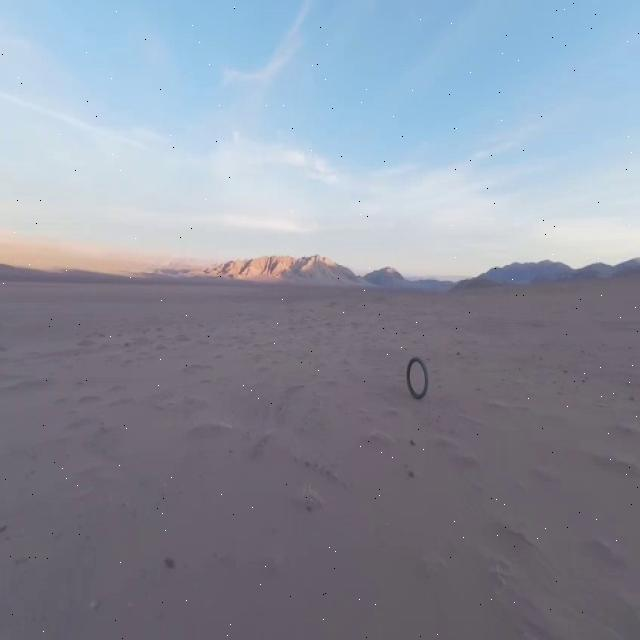Tire: (406, 357, 428, 399)
